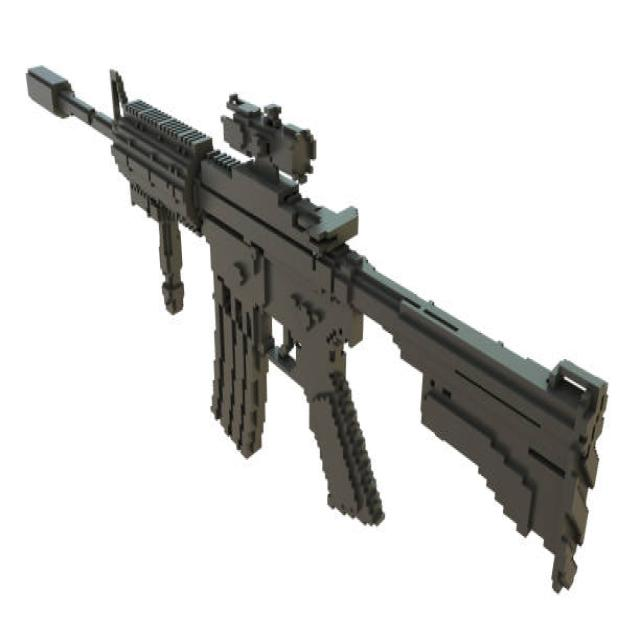rifle: (21, 44, 613, 601)
